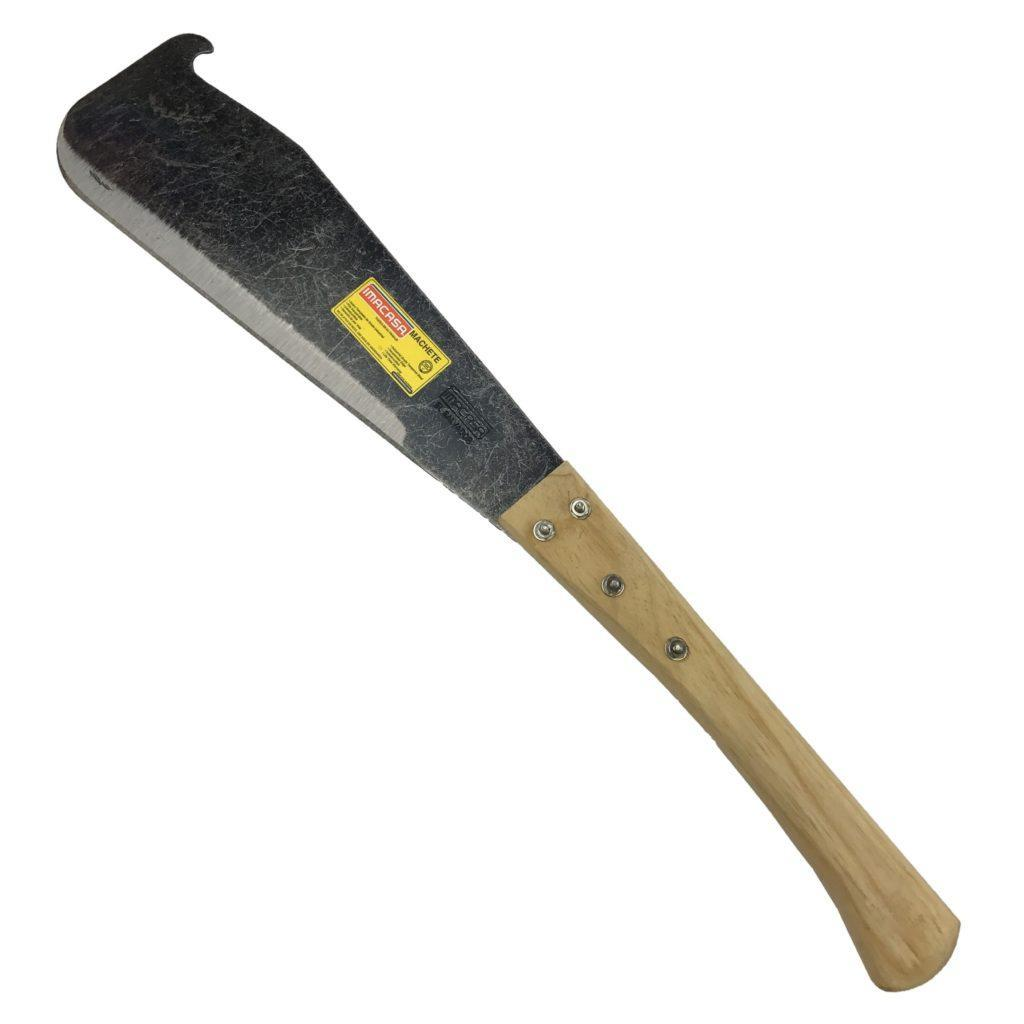facao: (34, 24, 970, 998)
